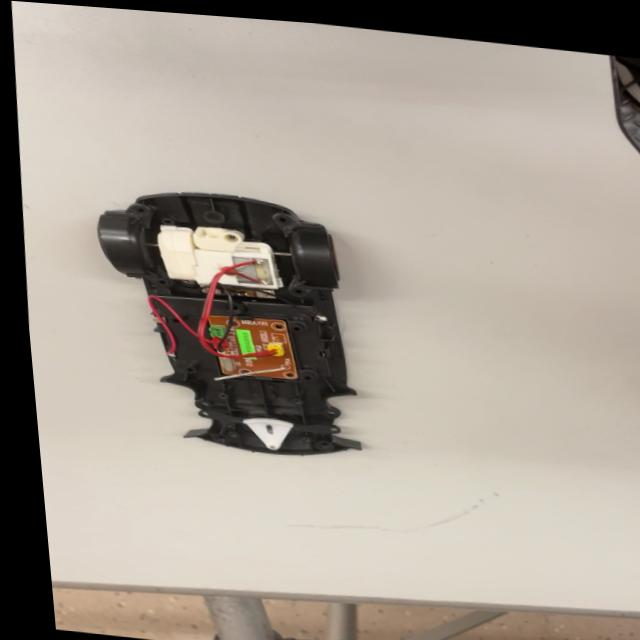Chassis: (86, 176, 385, 474)
